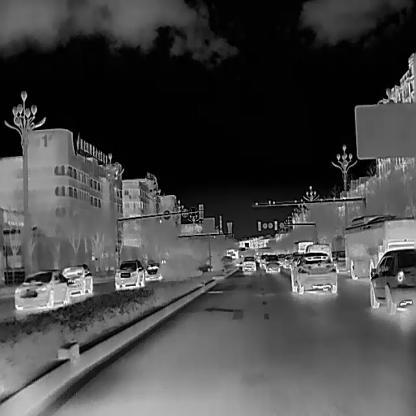car: (344, 213, 415, 279), (368, 248, 415, 315), (13, 269, 70, 310), (289, 252, 337, 293), (60, 263, 92, 296), (113, 259, 144, 289), (304, 243, 330, 267), (143, 262, 161, 279), (264, 254, 279, 272), (292, 240, 312, 253), (241, 255, 256, 272), (291, 251, 301, 265), (283, 253, 292, 268), (276, 253, 285, 267), (258, 253, 266, 267)
